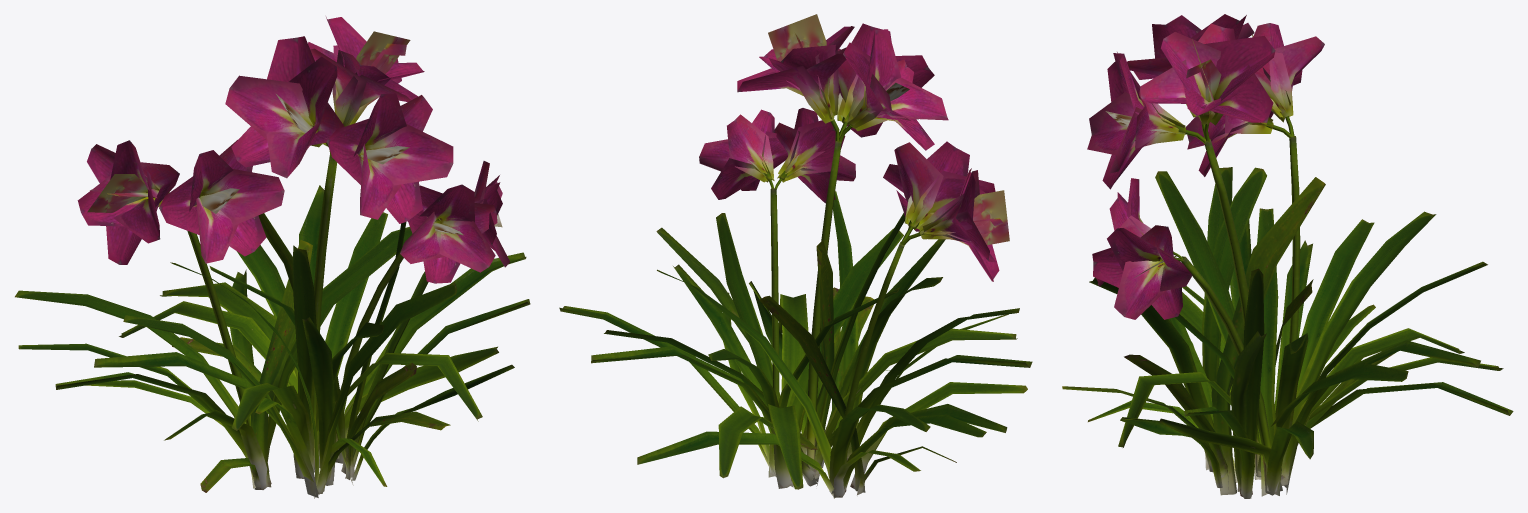
File: Amaryllis_bush_normal_pink.glb
3 views of the same model, side by side, from view 1: azimuth 30°, elevation 25°; view 2: azimuth 150°, elevation 25°; view 3: azimuth 270°, elevation 25° (orthographic). The views are drawn at different scales.
Visible parts, largest first — view 1: bush; view 2: bush; view 3: bush.
Part boxes in pixels (bbox=[...]): bush: bbox=[15, 17, 530, 498]; bush: bbox=[559, 14, 1032, 498]; bush: bbox=[1062, 14, 1513, 498].
Size of the model in its own units: 2.94 by 2.74 by 2.41.
Materials: 1 (1 with a texture image).
